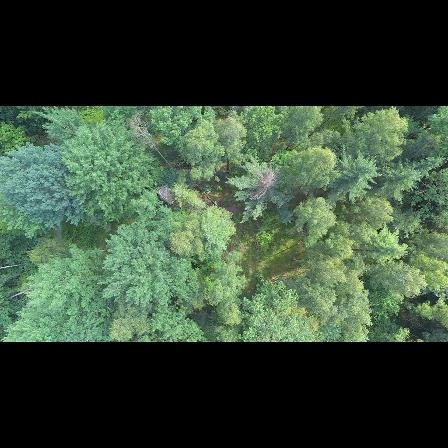Dead: (131, 116, 178, 175), (248, 159, 282, 198), (153, 186, 178, 207)
